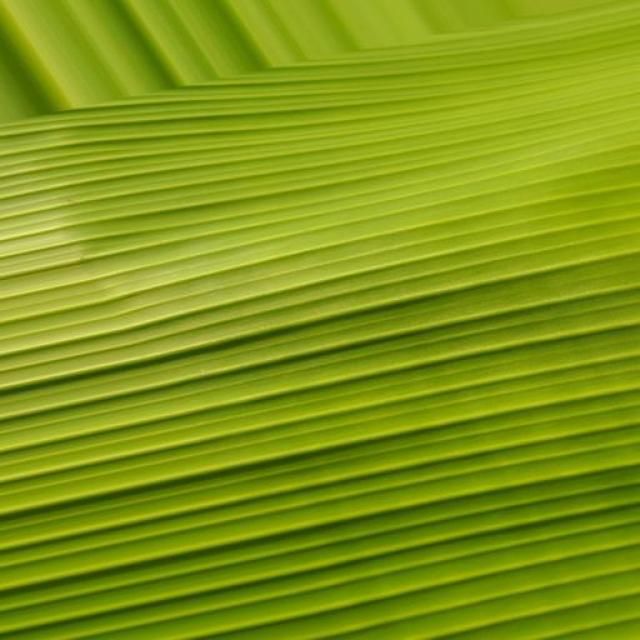Black_leaf_spot: (0, 20, 640, 604)
